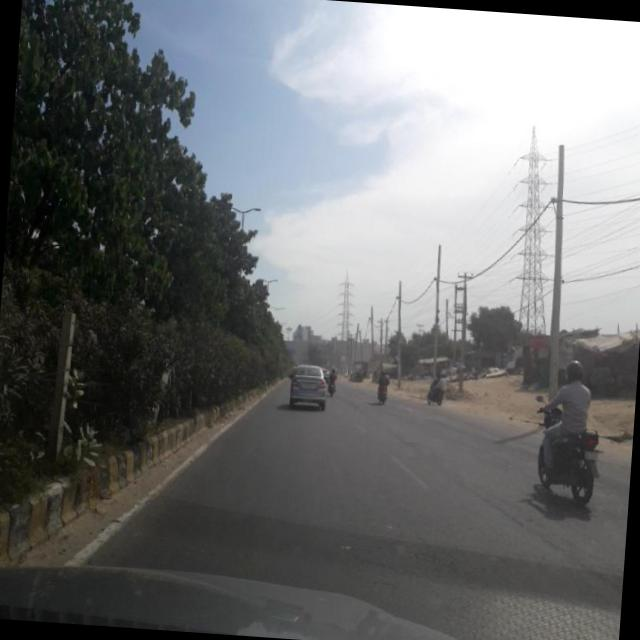crack: (308, 476, 575, 632), (126, 426, 258, 564)
